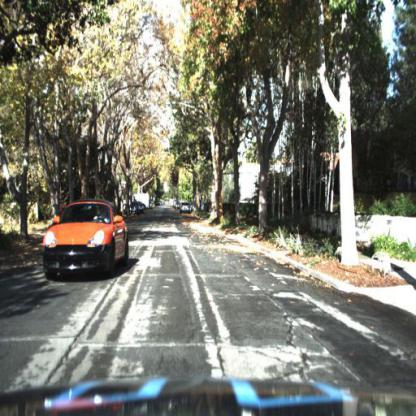car: (36, 196, 136, 288), (178, 198, 191, 220)
